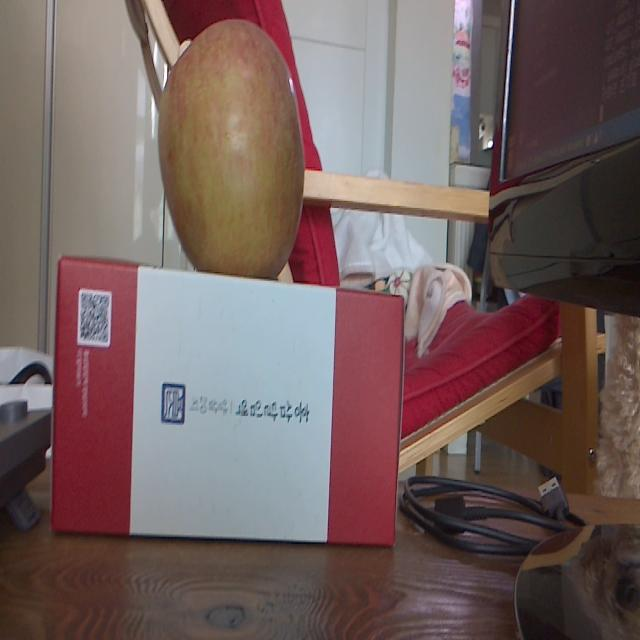apple: (159, 20, 309, 280)
